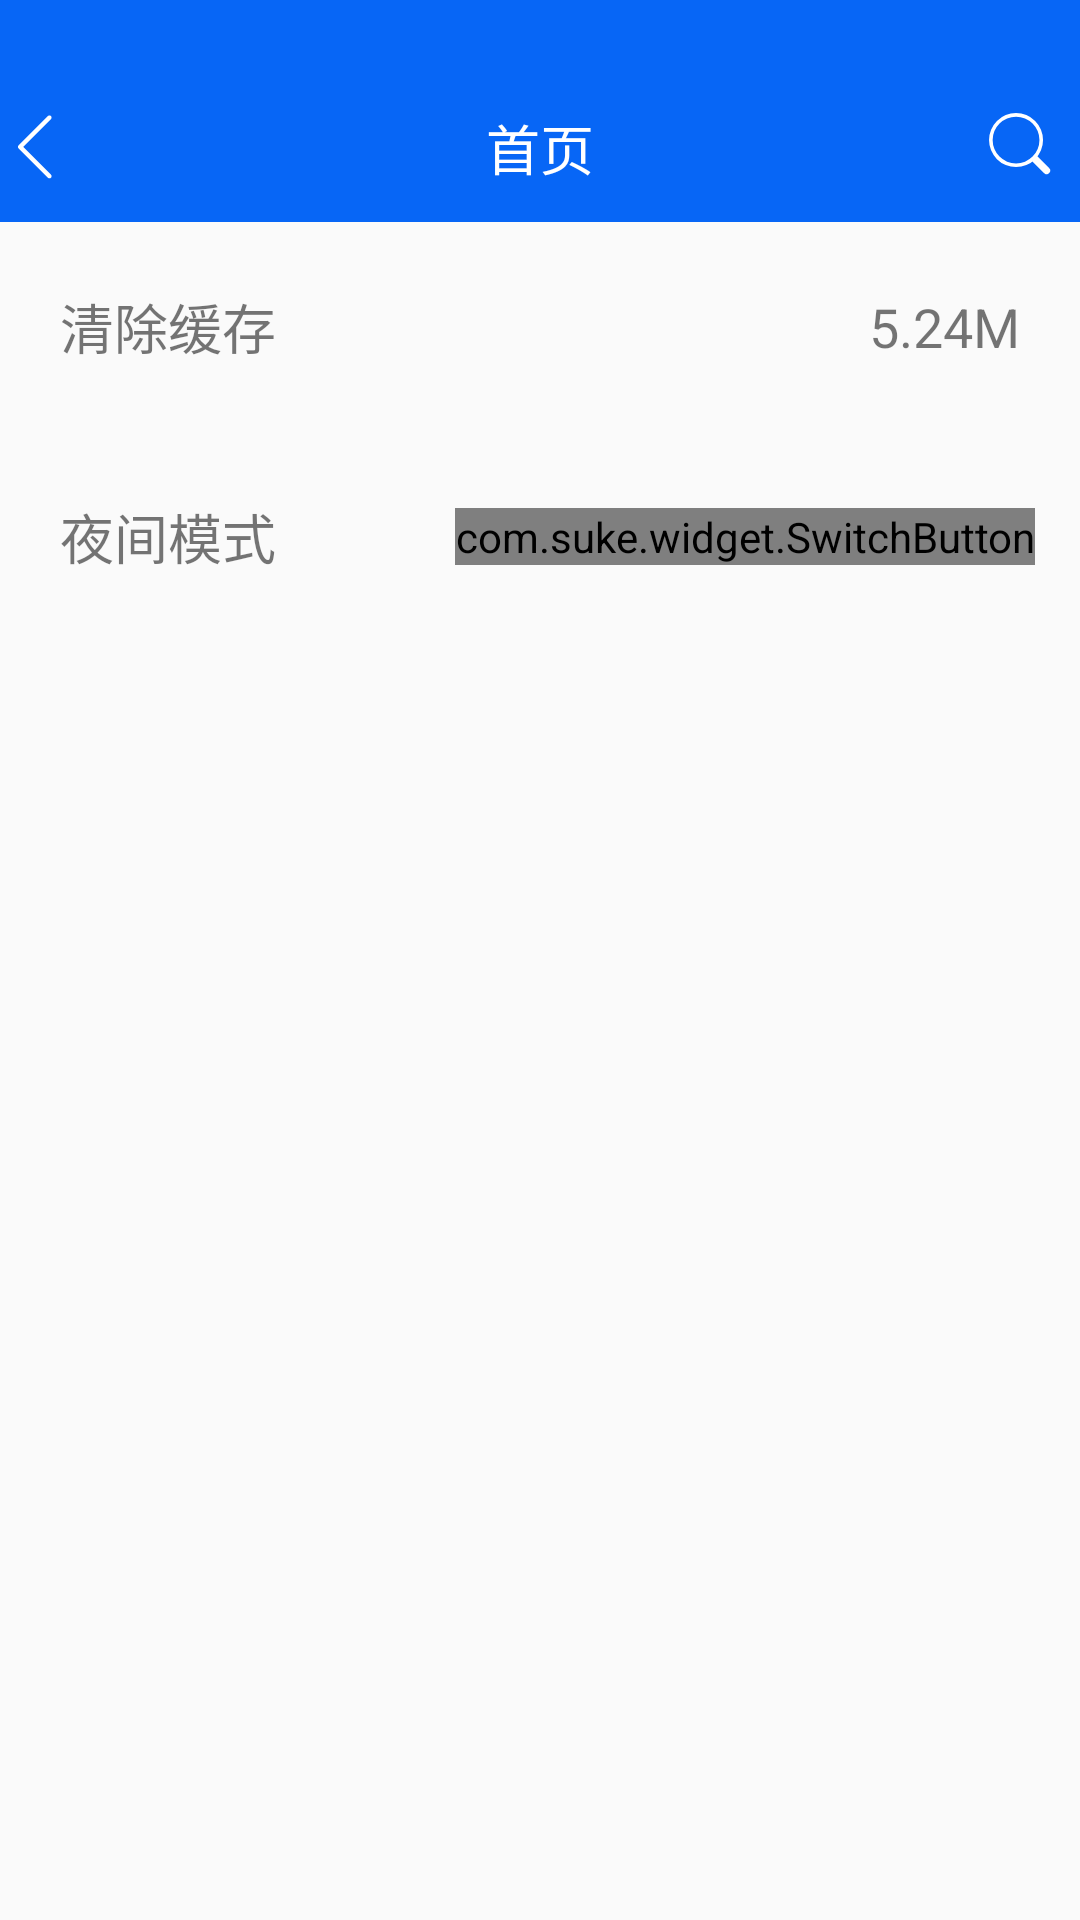

Point at icon controls on the screen. Image size 1080 x 1920, points as (x=x, y=y).
back: (x=35, y=147)
search: (x=1020, y=144)
